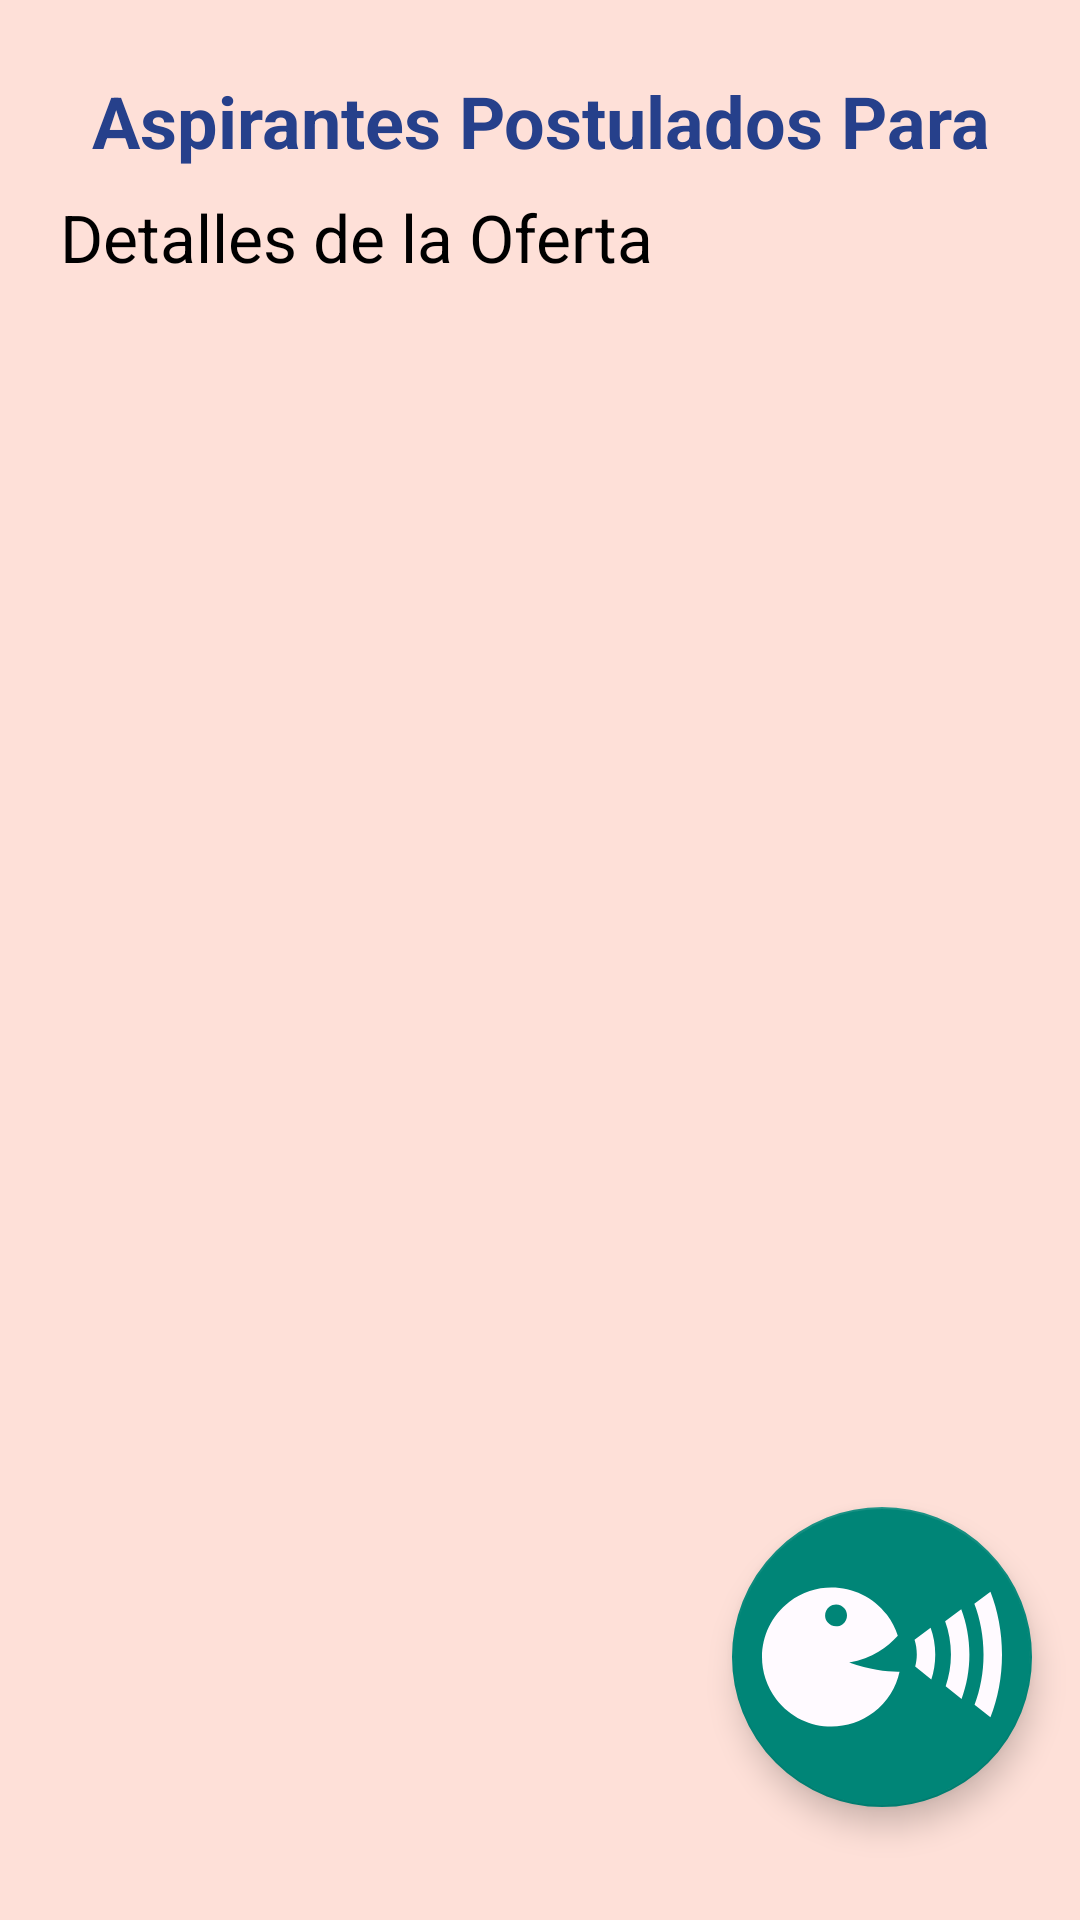

Icons on this 1080px x 1920px Android screen, each with its box as (x1, y1, x2, y2):
Activar comandos de voz: (732, 1507, 1032, 1807)
